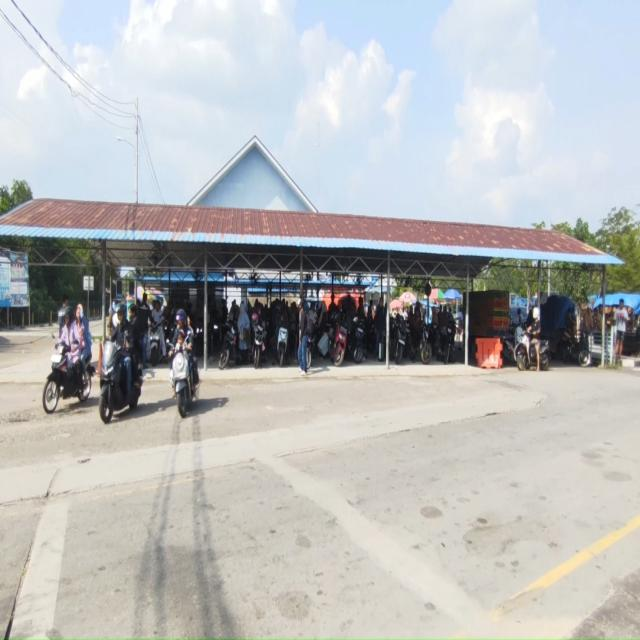Golongan II: (42, 336, 95, 414), (99, 341, 142, 424), (170, 348, 194, 418), (516, 332, 550, 371), (219, 322, 239, 370), (560, 334, 590, 366), (330, 314, 348, 366), (436, 318, 456, 364), (393, 314, 408, 365), (350, 317, 366, 364), (252, 321, 266, 369), (148, 322, 162, 368), (419, 322, 433, 364), (276, 326, 289, 368)
